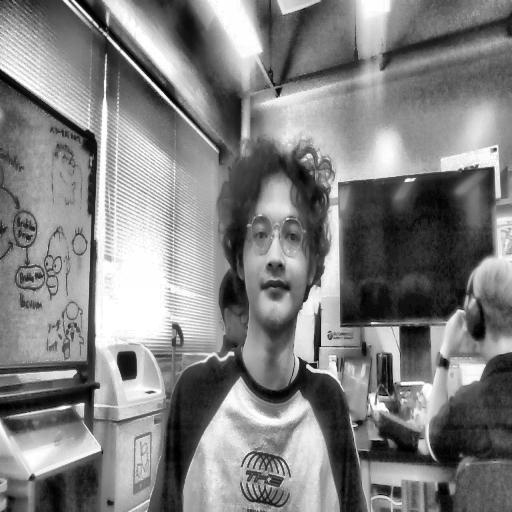Daifuku: (214, 145, 334, 334)
Not Daifuku: (463, 258, 512, 365), (219, 274, 248, 342)
